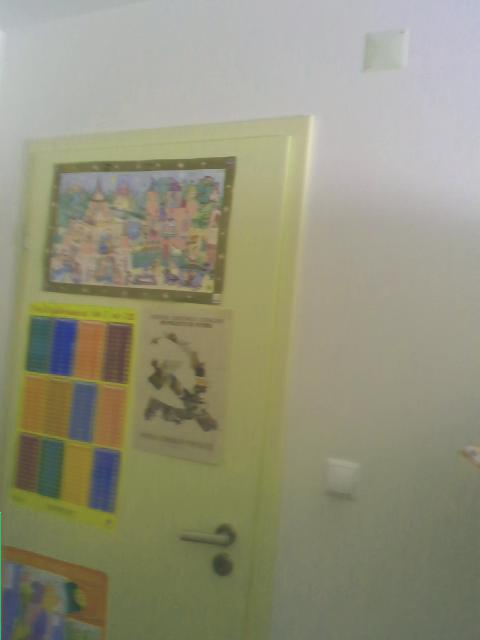closed_door: (2, 112, 313, 639)
